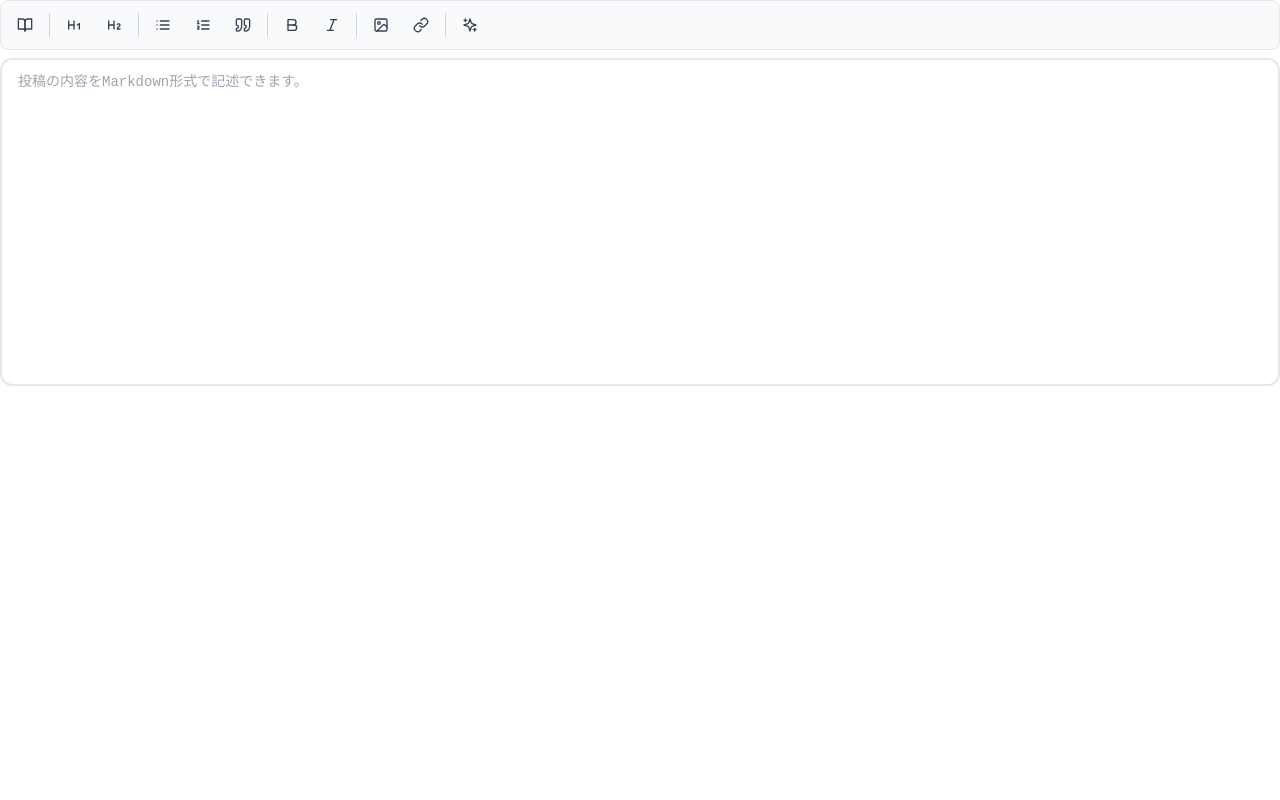
Scenario: MarkdownEditor › should show link dialog when link button is clicked
Click the button titled "URL" at (421, 25), box 405,9 -> 437,41
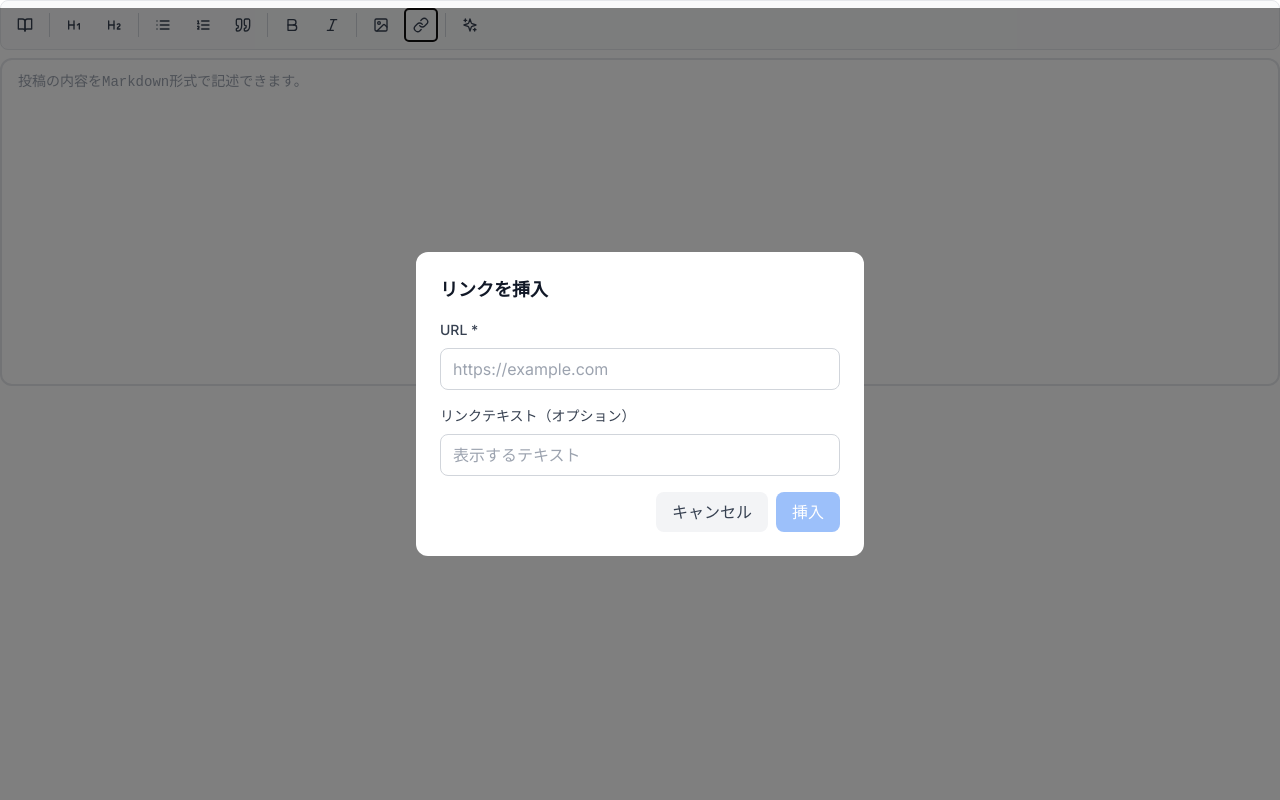
Expected: the heading "リンクを挿入" is shown, 440,279 -> 548,300
